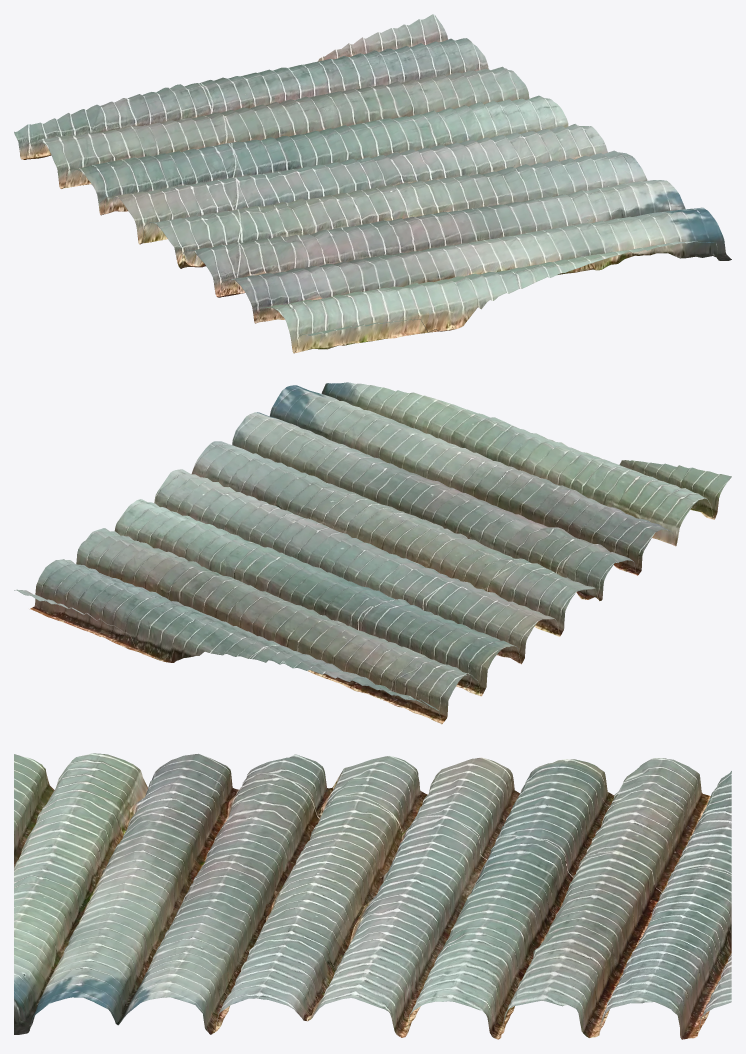
The model's file is BlockBY_L20_89.glb.
3 renders of one model, top to bottom at view 1: azimuth 30°, elevation 25°; view 2: azimuth 150°, elevation 25°; view 3: azimuth 270°, elevation 25°, orthographic. The views are drawn at different scales.
Visible parts, largest first — view 1: rtc; view 2: rtc; view 3: rtc.
Part boxes in pixels (x1,y1,x2,y2): rtc: (14,14,731,353); rtc: (14,382,731,724); rtc: (14,753,731,1039).
Bounding box in the file's own units: 33.85 × 3.32 × 41.37.
5 materials, 5 textured.
